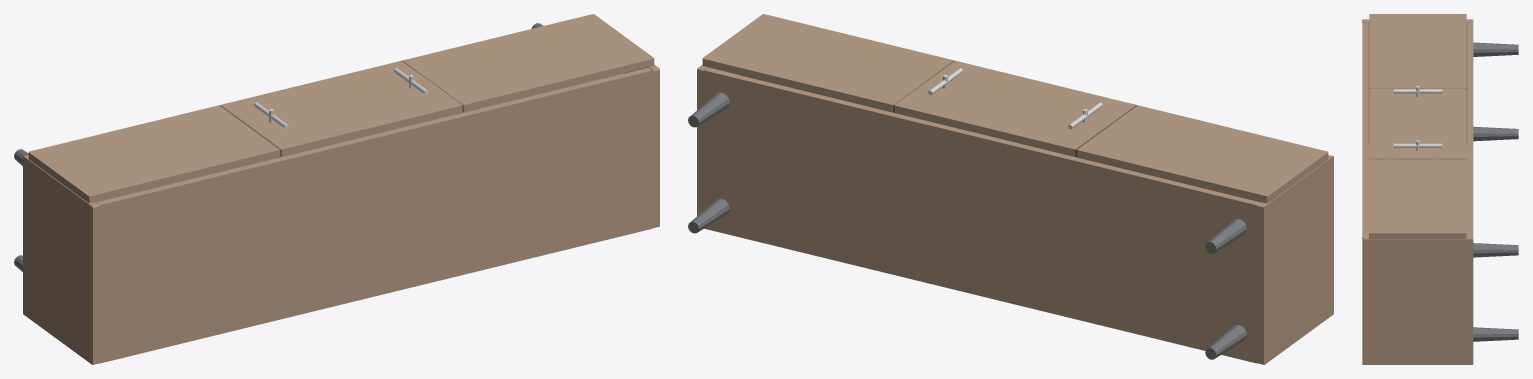
File: tv_console.glb
The picture shows the model from 3 angles, left to right: view 1: azimuth 30°, elevation 25°; view 2: azimuth 150°, elevation 25°; view 3: azimuth 270°, elevation 25°; orthographic projection. The views are drawn at different scales.
Parts seen in each view (by area): view 1: body_2, door_l, door_r, body, niche_door, body_1, body_4, body_5; view 2: body_3, door_l, door_r, body, niche_door, body_1, leg_18, leg, leg_20, leg_19, body_5; view 3: body_1, door_r, door_l, niche_door, body_2, body_3, leg, leg_18, leg_19, leg_20, body, body_4 (+3 smaller).
Part boxes in pixels (x1=…): body_2: x1=96, y1=67, x2=653, y2=362; door_l: x1=28, y1=105, x2=279, y2=203; door_r: x1=403, y1=14, x2=654, y2=111; body: x1=23, y1=155, x2=99, y2=364; niche_door: x1=221, y1=61, x2=462, y2=156; body_1: x1=622, y1=65, x2=659, y2=227; body_4: x1=99, y1=241, x2=591, y2=363; body_5: x1=95, y1=73, x2=621, y2=202; body_3: x1=703, y1=67, x2=1260, y2=363; door_l: x1=1077, y1=105, x2=1328, y2=203; door_r: x1=702, y1=14, x2=953, y2=111; body: x1=1257, y1=155, x2=1333, y2=364; niche_door: x1=894, y1=61, x2=1135, y2=156; body_1: x1=697, y1=65, x2=738, y2=215; leg_18: x1=1205, y1=218, x2=1246, y2=253; leg: x1=1205, y1=325, x2=1246, y2=359; leg_20: x1=688, y1=92, x2=729, y2=127; leg_19: x1=688, y1=198, x2=729, y2=233; body_5: x1=739, y1=74, x2=1261, y2=202; body_1: x1=1362, y1=236, x2=1473, y2=364; door_r: x1=1369, y1=159, x2=1466, y2=238; door_l: x1=1369, y1=14, x2=1466, y2=88; niche_door: x1=1369, y1=88, x2=1466, y2=158; body_2: x1=1362, y1=22, x2=1368, y2=236; body_3: x1=1467, y1=22, x2=1473, y2=236; leg: x1=1473, y1=126, x2=1518, y2=141; leg_18: x1=1473, y1=42, x2=1518, y2=56; leg_19: x1=1473, y1=327, x2=1518, y2=341; leg_20: x1=1473, y1=243, x2=1518, y2=257; body: x1=1362, y1=19, x2=1473, y2=144; body_4: x1=1368, y1=145, x2=1467, y2=236.
Bounding box in the file's own units: 1.5 × 0.449 × 0.45.
